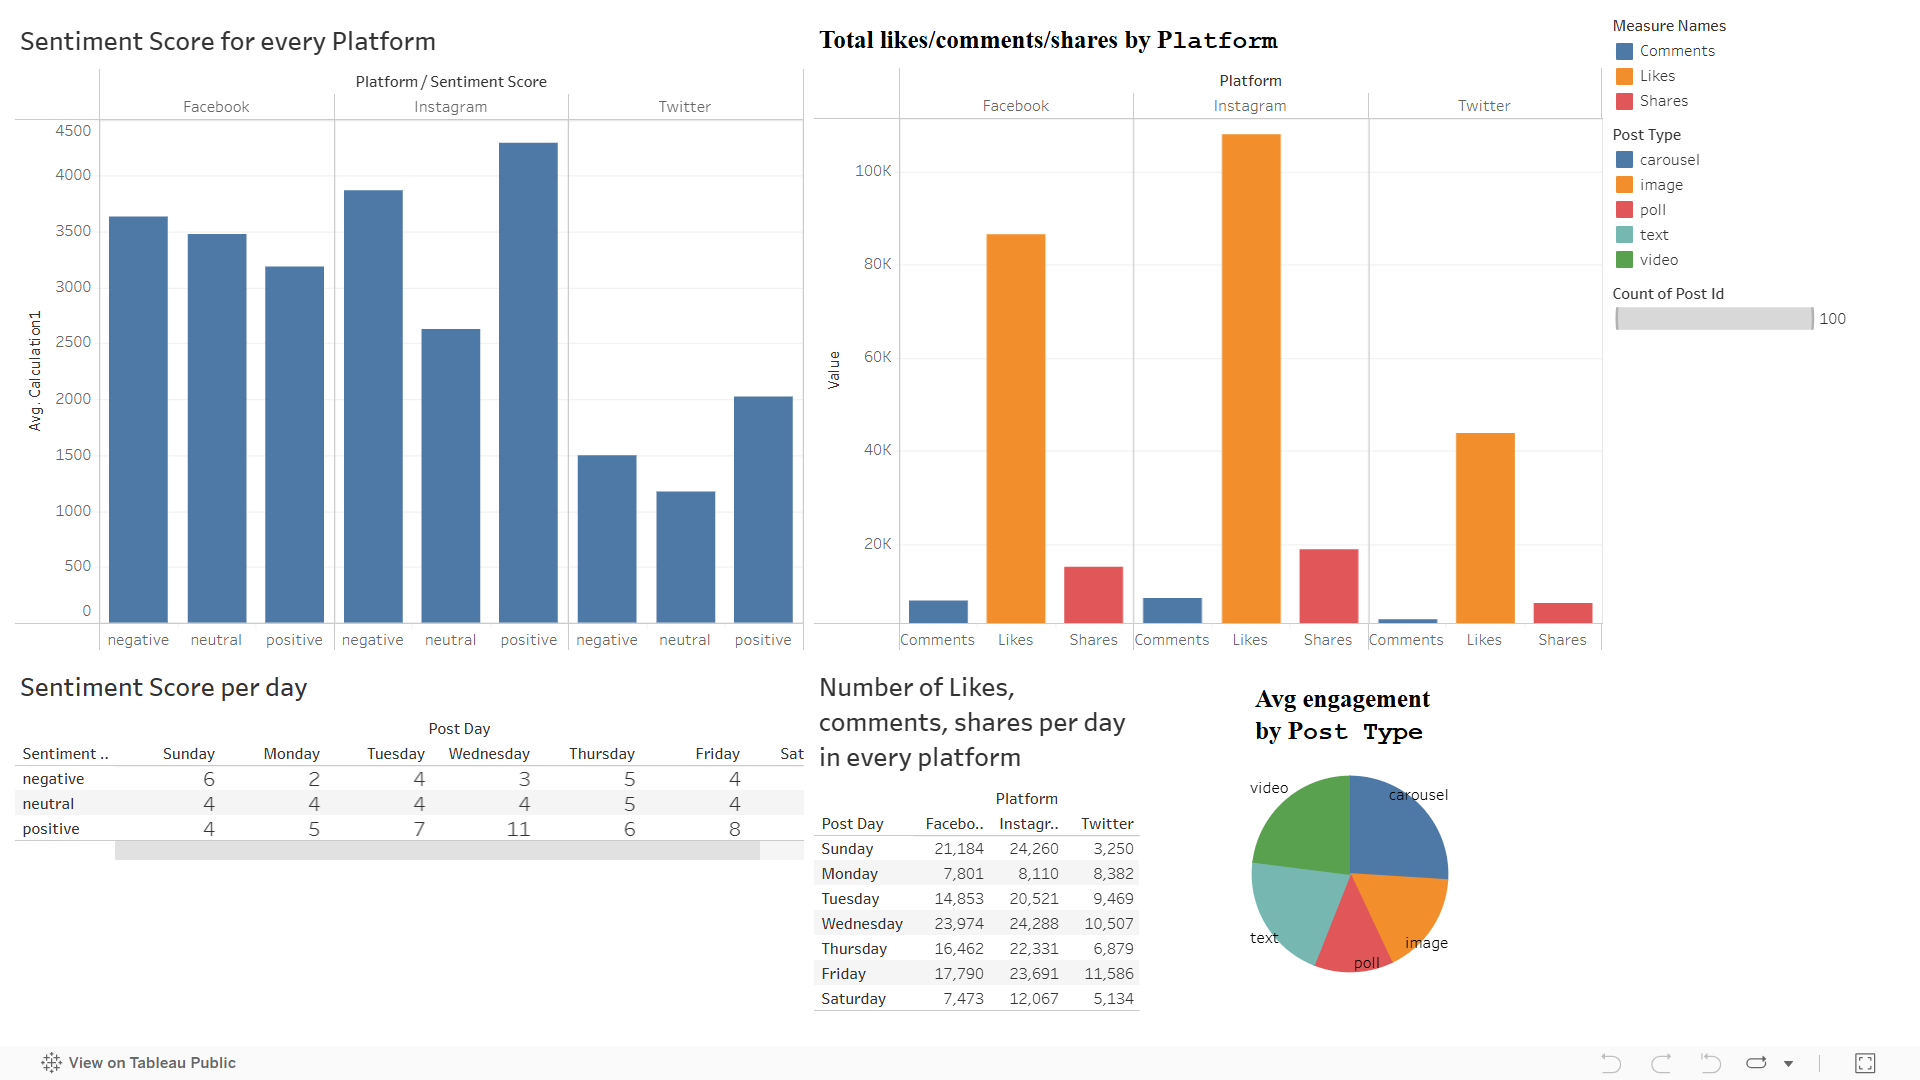

What the dashboard file says about the page in this screenshot:
{"tool":"tableau","page":{"name":"Dashboard 1","canvas":[1000,1000],"units":"permille","ordinal":0},"visuals":[{"type":"worksheet","title":"Sheet 4","mark":"Automatic","rows":["Calculation_1356990891037384705"],"cols":["platform","sentiment_score"],"box":[4.8,9.3,422.1,617.9]},{"type":"worksheet","title":"Sheet 1","mark":"Automatic","cols":["platform"],"box":[427,9.3,422.2,617.9]},{"type":"legend","title":"Sheet 1","param":"[federated.1krtlzz1qjzxpn1e0fyj20no0ezn].[:Measure Names]","box":[849.1,9.3,146.1,108]},{"type":"legend","title":"Sheet 2","param":"[federated.1krtlzz1qjzxpn1e0fyj20no0ezn].[none:post_type:nk]","box":[849.1,117.3,146.1,156.8]},{"type":"legend","title":"Sheet 2","param":"[federated.1krtlzz1qjzxpn1e0fyj20no0ezn].[cnt:post_id:qk]","box":[849.1,274.1,146.1,59.2]},{"type":"worksheet","title":"Sheet 3","mark":"Automatic","rows":["sentiment_score"],"cols":["post_day"],"box":[4.8,627.2,421.8,363.5]},{"type":"worksheet","title":"Sheet 5","mark":"Automatic","rows":["post_day"],"cols":["platform"],"box":[426.7,627.2,231.1,363.5]},{"type":"worksheet","title":"Sheet 2","mark":"Pie","box":[657.8,627.2,191.3,363.5]}]}

Visuals, with their boxes on the dashboard's canvas, which has no fixed pixel size, in thousandths of its width and height (x1, y1, x2, y2). These are canvas units, not pixel positions in the 1920x1080 screenshot, which may show the page scaled, cropped or inside an application window:
"Sheet 4" worksheet: locate(5, 9, 427, 627)
"Sheet 1" worksheet: locate(427, 9, 849, 627)
"Sheet 1" legend: locate(849, 9, 995, 117)
"Sheet 2" legend: locate(849, 117, 995, 274)
"Sheet 2" legend: locate(849, 274, 995, 333)
"Sheet 3" worksheet: locate(5, 627, 427, 991)
"Sheet 5" worksheet: locate(427, 627, 658, 991)
"Sheet 2" worksheet (Pie marks): locate(658, 627, 849, 991)
